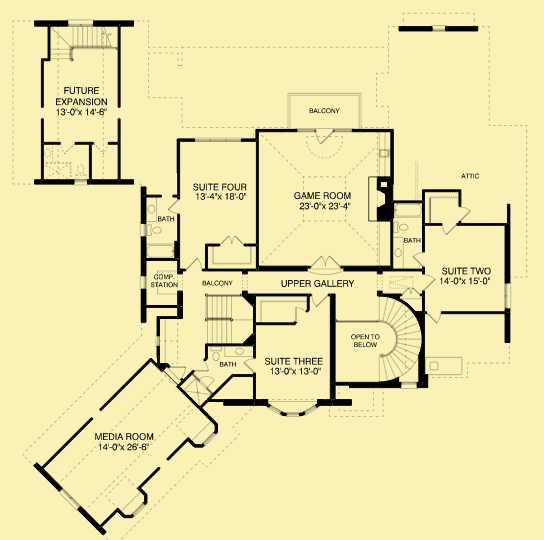bathroom has a shower space, small and large sink: (179, 344, 256, 408)
bathroom has a tub, small and large sink: (140, 194, 177, 261), (390, 201, 425, 269)
there are stairs from balcony: (330, 296, 423, 387)
